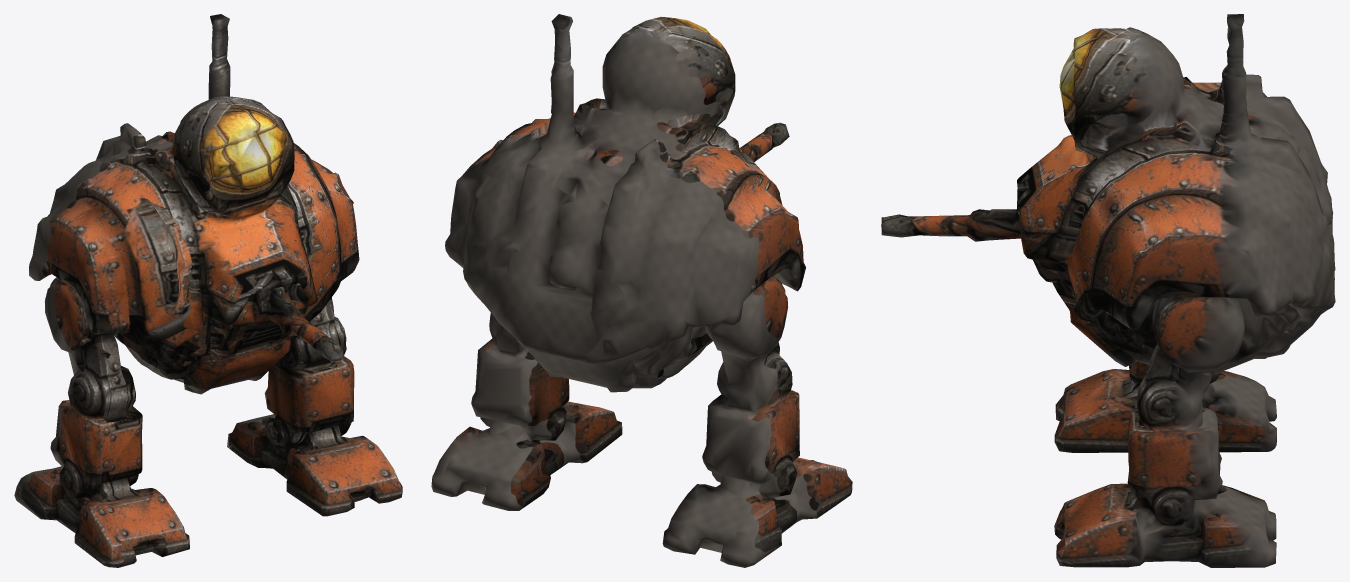
Rendered from spotlamp_lod1.glb.
The picture shows the model from 3 angles, left to right: view 1: azimuth 30°, elevation 25°; view 2: azimuth 150°, elevation 25°; view 3: azimuth 270°, elevation 25°; orthographic projection. The views are drawn at different scales.
Visible parts, largest first — view 1: geometry_0; view 2: geometry_0; view 3: geometry_0.
Part boxes in pixels (bbox=[...]): geometry_0: bbox=[14, 14, 402, 567]; geometry_0: bbox=[431, 14, 852, 567]; geometry_0: bbox=[881, 14, 1335, 567].
Size of the model in its own units: 1.39 by 2 by 1.66.
Materials: 1 (1 with a texture image).
